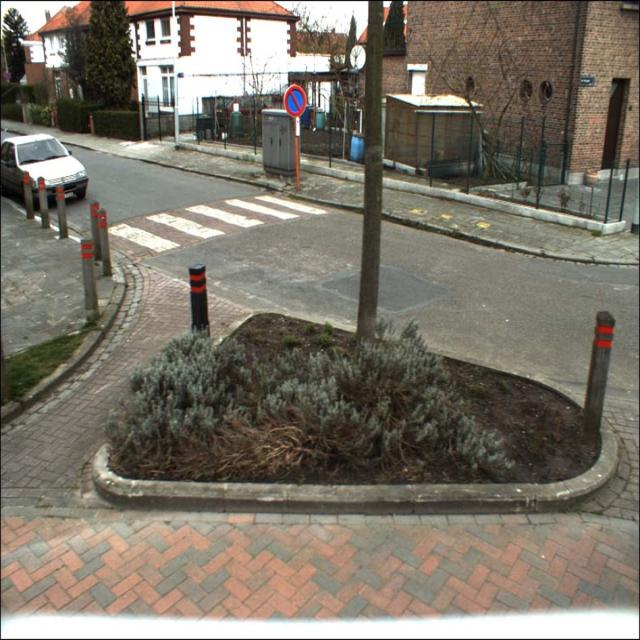parkyasak: (283, 85, 307, 116)
